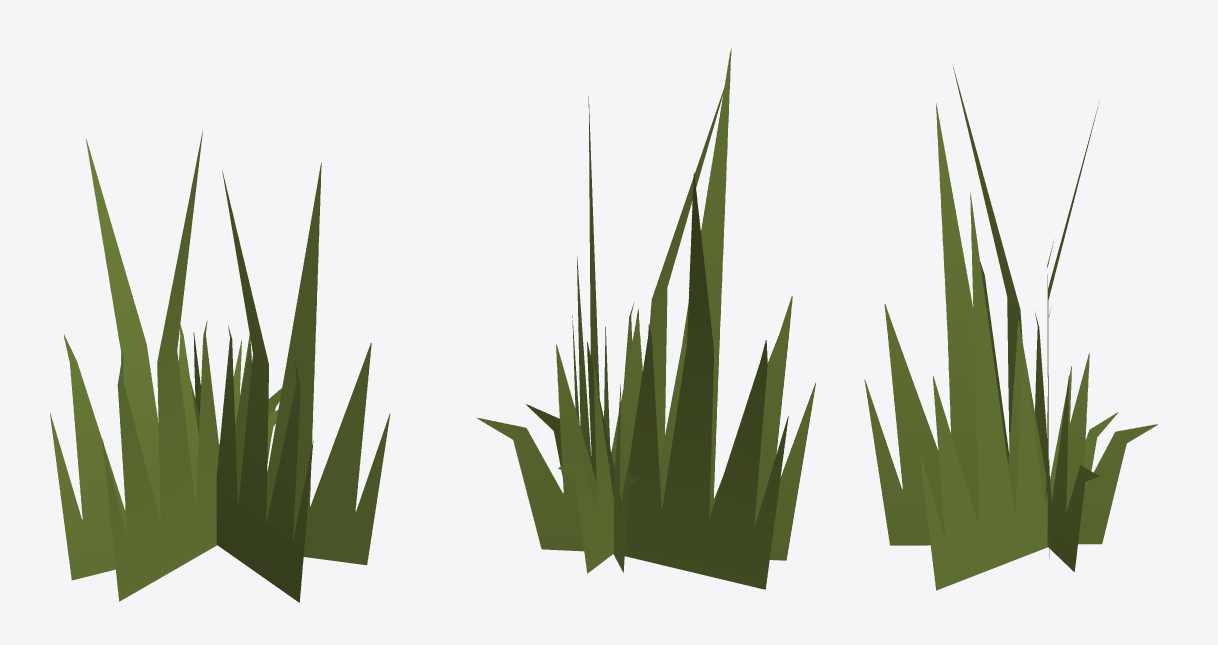
Rendered from EA03_Plant_Grass_02b.fbx.
3 renders of one model, left to right at view 1: azimuth 30°, elevation 25°; view 2: azimuth 150°, elevation 25°; view 3: azimuth 270°, elevation 25°, orthographic. The views are drawn at different scales.
Visible parts, largest first — view 1: EA03_Plant_Grass_02a; view 2: EA03_Plant_Grass_02a; view 3: EA03_Plant_Grass_02a.
Boxes of the visible parts, x1=… form: EA03_Plant_Grass_02a: x1=50, y1=130, x2=390, y2=602; EA03_Plant_Grass_02a: x1=477, y1=47, x2=815, y2=589; EA03_Plant_Grass_02a: x1=864, y1=65, x2=1157, y2=590.
Bounding box in the file's own units: 37.55 × 51.85 × 33.91.
1 material, 1 textured.
